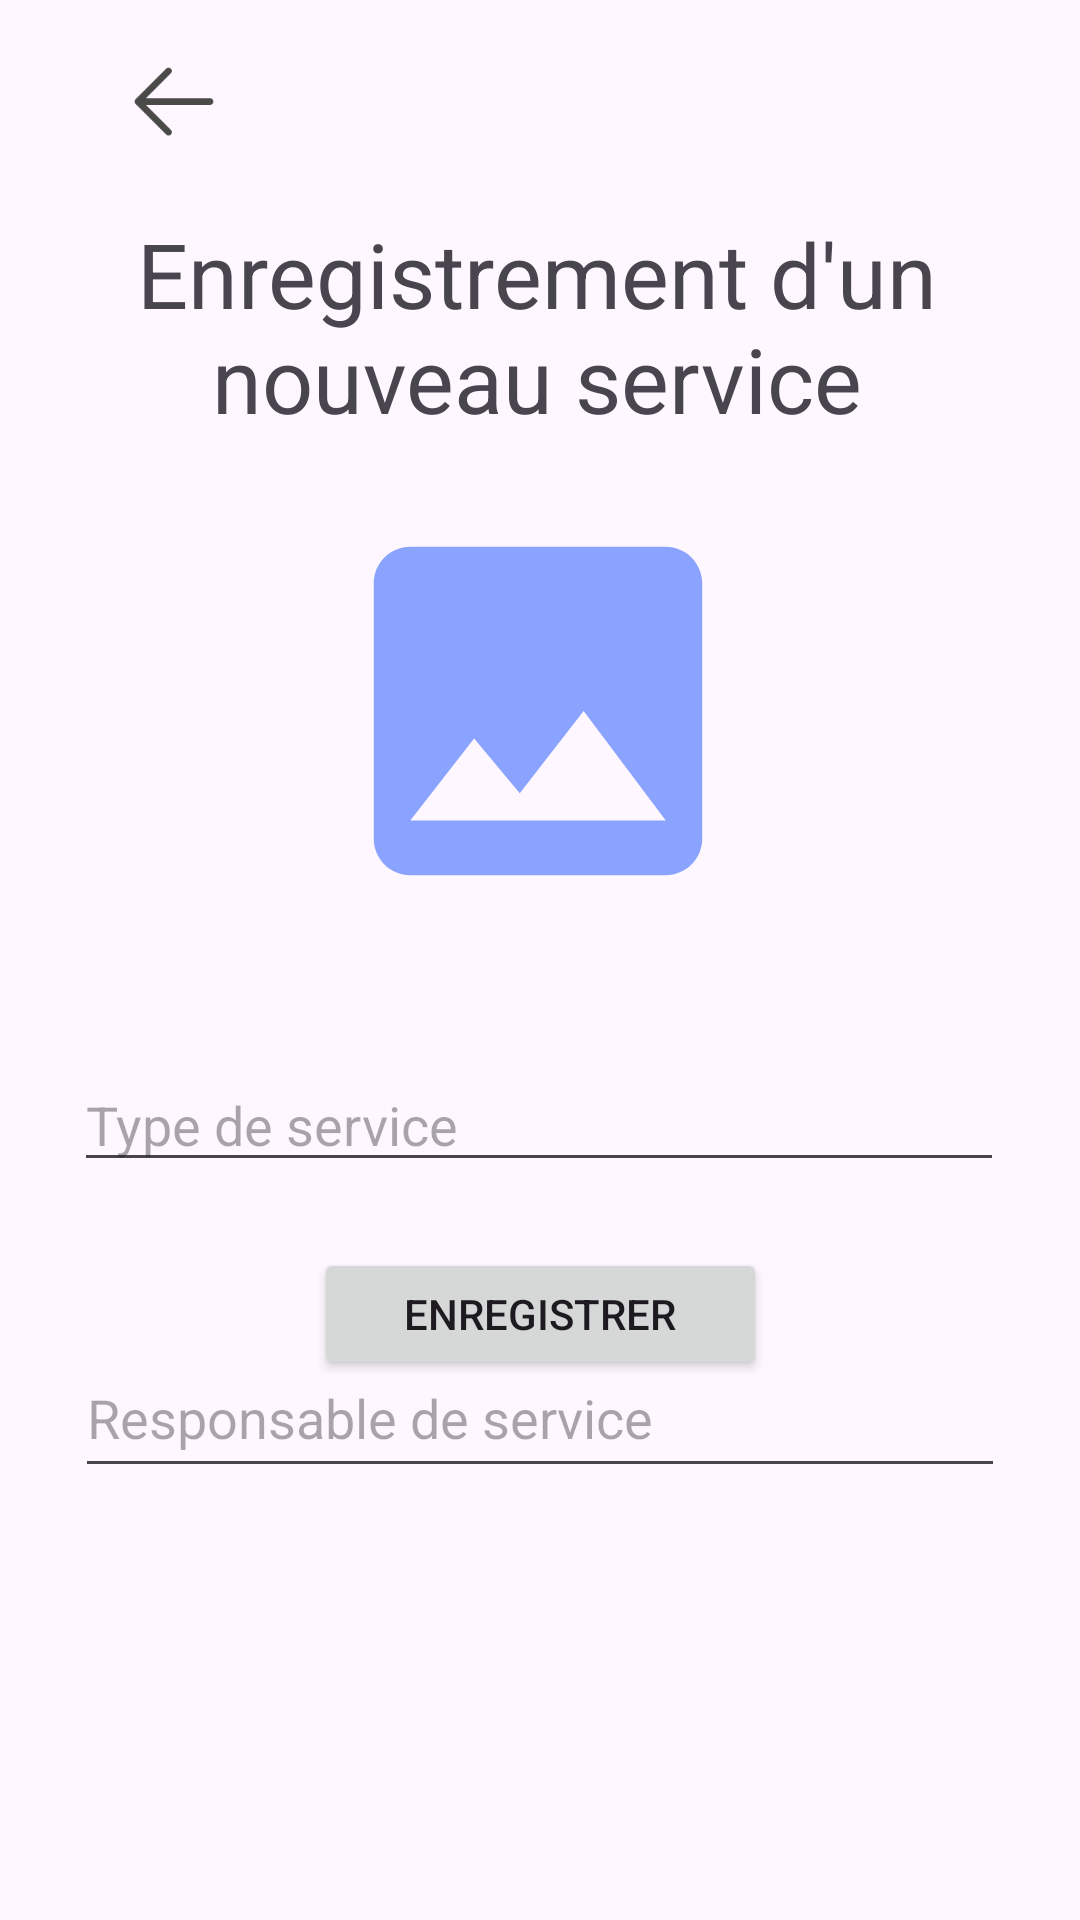

Named icons in this screenshot (1080px x 1920px) and their centers, [x,y]:
left: [174,101]
